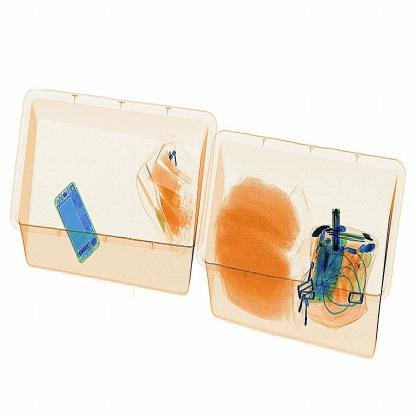scissors: (326, 197, 352, 258)
